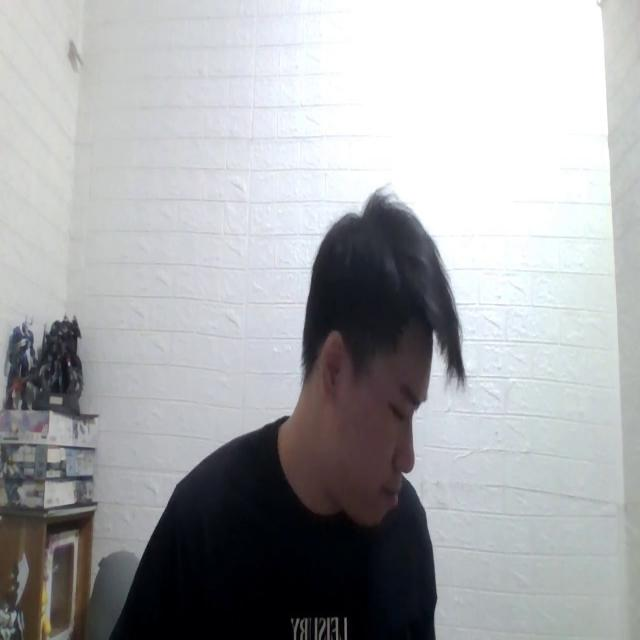student: (109, 175, 469, 640)
